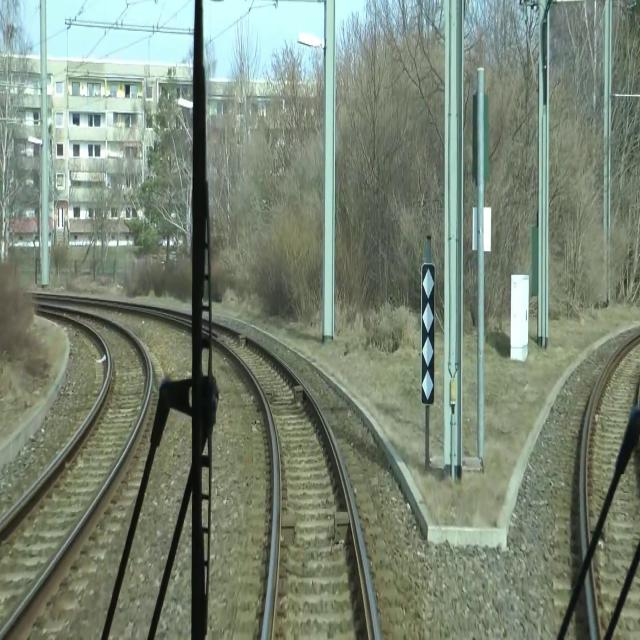rail-track: (190, 319, 369, 639), (0, 410, 98, 629), (34, 306, 135, 364)
